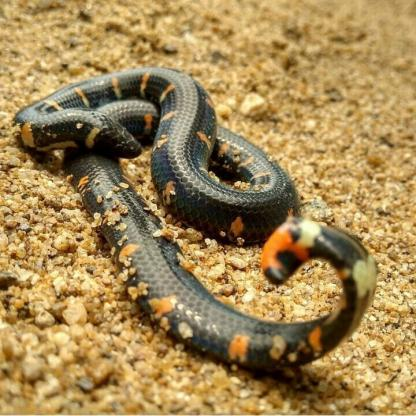Snake: (13, 67, 377, 369)
